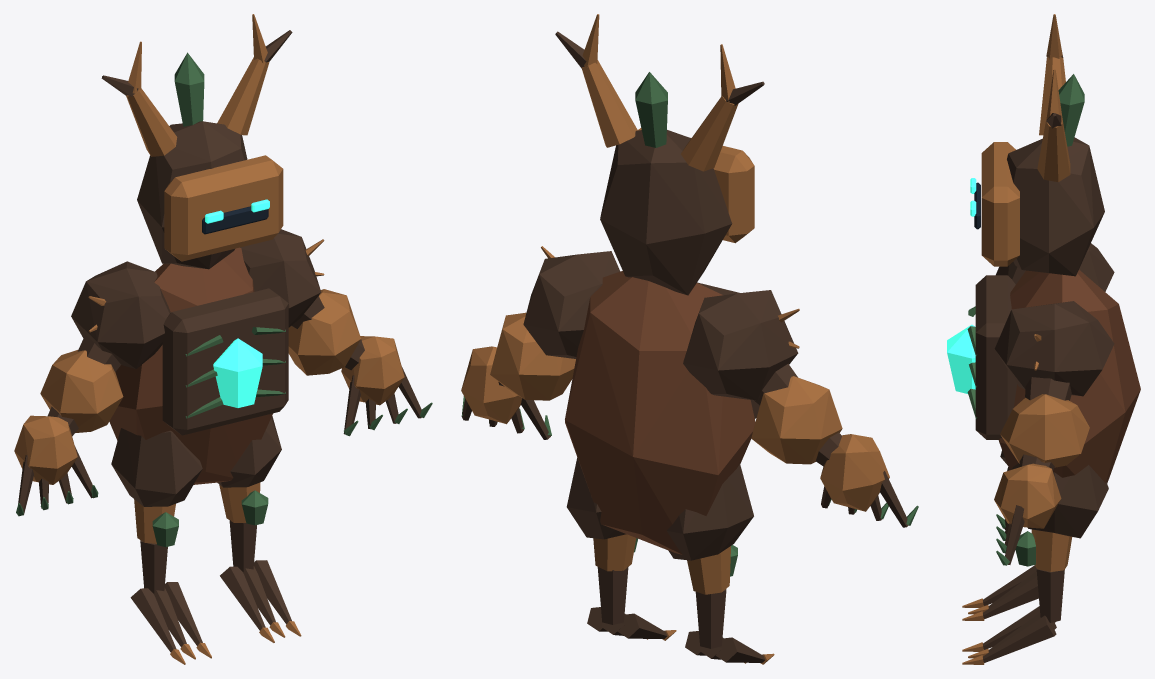
The model's file is Rootstalker.gltf.
3 renders of one model, left to right at view 1: azimuth 30°, elevation 25°; view 2: azimuth 150°, elevation 25°; view 3: azimuth 270°, elevation 25°, orthographic. The views are drawn at different scales.
Visible parts, largest first — view 1: Bark_Cuirass_Mesh, Root_Shoulder_Mesh (×2), Trunk_Mesh, Elbow_Knot_Mesh (×2), Split_Mask_Mesh, Root_Hip_Mesh (×2), Skull_Mesh, Palm_Mesh (×2), Root_Toe_Mesh (×6), Antler_Mesh (×2), Exposed_Rift_Mesh, Lower_Root_Shin_Mesh (×2) (+4 smaller); view 2: Trunk_Mesh, Root_Shoulder_Mesh (×2), Skull_Mesh, Elbow_Knot_Mesh (×2), Palm_Mesh (×2), Root_Hip_Mesh (×2), Antler_Mesh (×2), Lower_Root_Shin_Mesh (×2), Split_Mask_Mesh, Bent_Leg_Mesh (×2), Moss_Crown_Mesh, Root_Toe_Mesh (×2); view 3: Trunk_Mesh, Skull_Mesh, Root_Shoulder_Mesh (×2), Bark_Cuirass_Mesh, Elbow_Knot_Mesh, Split_Mask_Mesh, Root_Toe_Mesh (×5), Palm_Mesh, Root_Hip_Mesh, Antler_Mesh (×2), Exposed_Rift_Mesh, Bent_Leg_Mesh (+6 smaller).
Part boxes in pixels (x1,y1,x2,y2): Bark_Cuirass_Mesh: [162, 288, 288, 435]; Root_Shoulder_Mesh (×2): [71, 229, 321, 368]; Trunk_Mesh: [109, 247, 272, 484]; Elbow_Knot_Mesh (×2): [40, 289, 360, 432]; Split_Mask_Mesh: [164, 155, 283, 261]; Root_Hip_Mesh (×2): [111, 416, 281, 506]; Skull_Mesh: [137, 121, 247, 269]; Palm_Mesh (×2): [14, 336, 404, 484]; Root_Toe_Mesh (×6): [130, 560, 291, 652]; Antler_Mesh (×2): [126, 57, 269, 156]; Exposed_Rift_Mesh: [213, 338, 262, 407]; Lower_Root_Shin_Mesh (×2): [140, 520, 256, 593]; Trunk_Mesh: [565, 271, 755, 554]; Root_Shoulder_Mesh (×2): [523, 251, 798, 400]; Skull_Mesh: [600, 130, 732, 295]; Elbow_Knot_Mesh (×2): [490, 312, 842, 464]; Palm_Mesh (×2): [461, 346, 889, 511]; Root_Hip_Mesh (×2): [566, 457, 753, 560]; Antler_Mesh (×2): [581, 60, 738, 171]; Lower_Root_Shin_Mesh (×2): [597, 566, 726, 648]; Split_Mask_Mesh: [638, 128, 754, 243]; Bent_Leg_Mesh (×2): [593, 534, 730, 594]; Moss_Crown_Mesh: [635, 72, 667, 147]; Root_Toe_Mesh (×2): [617, 613, 765, 662]; Trunk_Mesh: [998, 270, 1140, 483]; Skull_Mesh: [1007, 137, 1104, 276]; Root_Shoulder_Mesh (×2): [994, 243, 1114, 396]; Bark_Cuirass_Mesh: [975, 275, 1016, 439]; Elbow_Knot_Mesh: [1000, 394, 1089, 467]; Split_Mask_Mesh: [981, 142, 1019, 266]; Root_Toe_Mesh (×5): [983, 565, 1056, 662]; Palm_Mesh: [994, 463, 1061, 528]; Root_Hip_Mesh: [1007, 463, 1108, 538]; Antler_Mesh (×2): [1037, 57, 1070, 182]; Exposed_Rift_Mesh: [947, 324, 975, 393]; Bent_Leg_Mesh: [1031, 529, 1072, 571].
Bounding box in the file's own units: 2.51 × 3.41 × 1.01.
